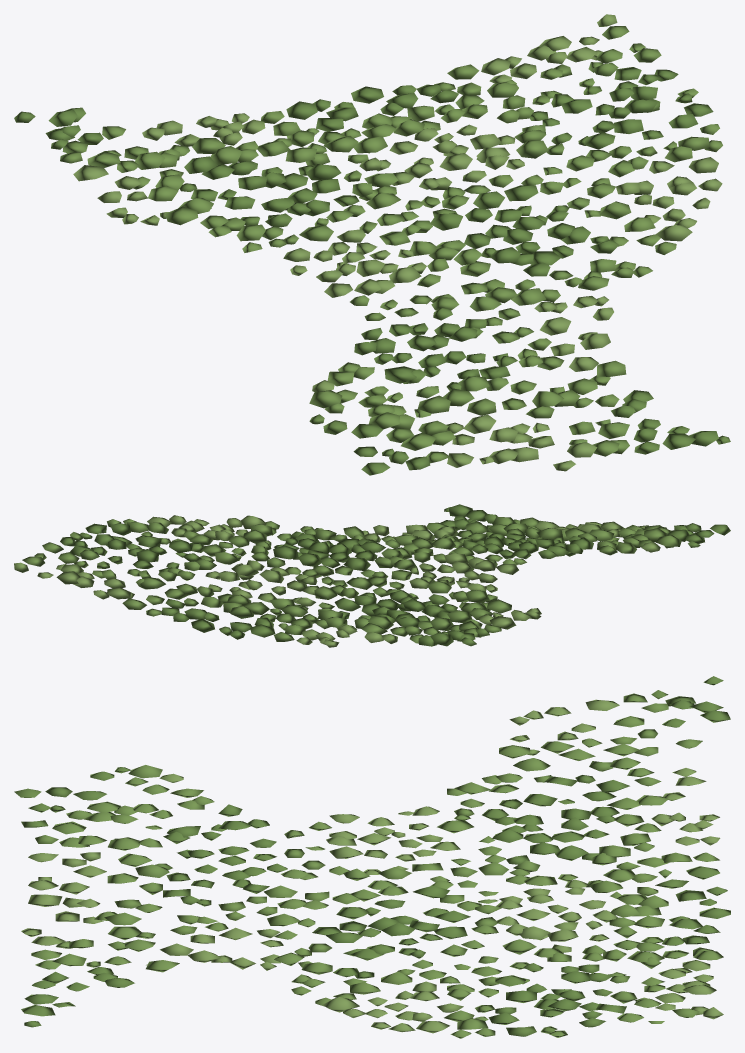
Rendered from canopy-1-4-0.glb.
3 renders of one model, top to bottom at view 1: azimuth 30°, elevation 25°; view 2: azimuth 150°, elevation 25°; view 3: azimuth 270°, elevation 25°, orthographic. The views are drawn at different scales.
Size of the model in its own units: 508 by 138 by 518.
Materials: 1 (1 with a texture image).
